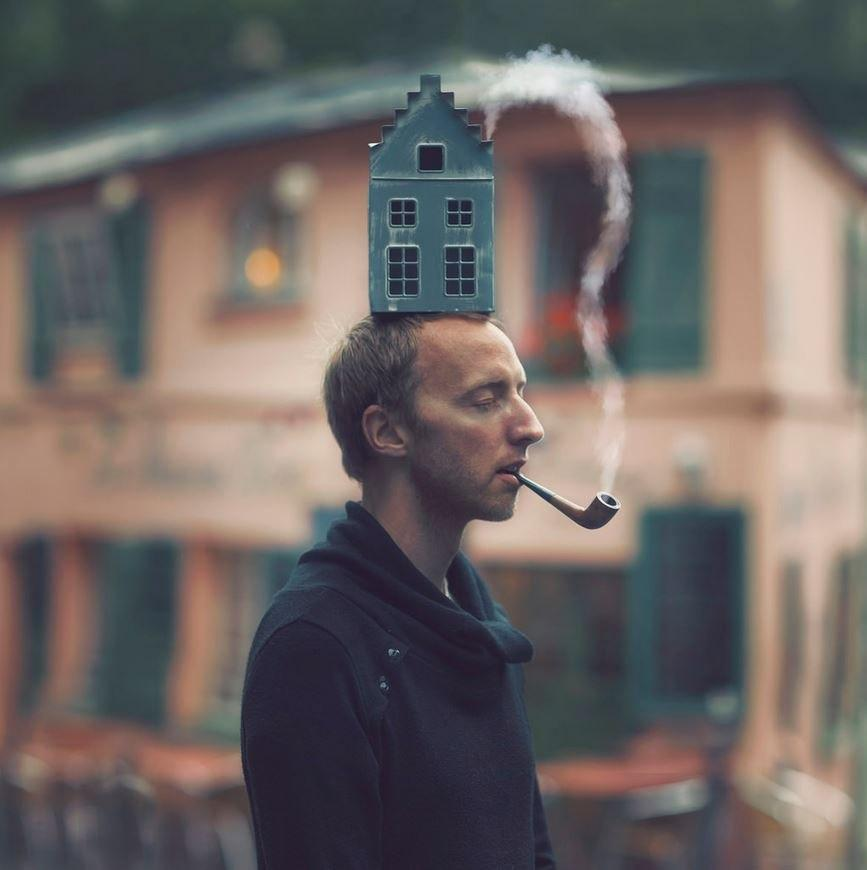trubka: (516, 475, 620, 529)
